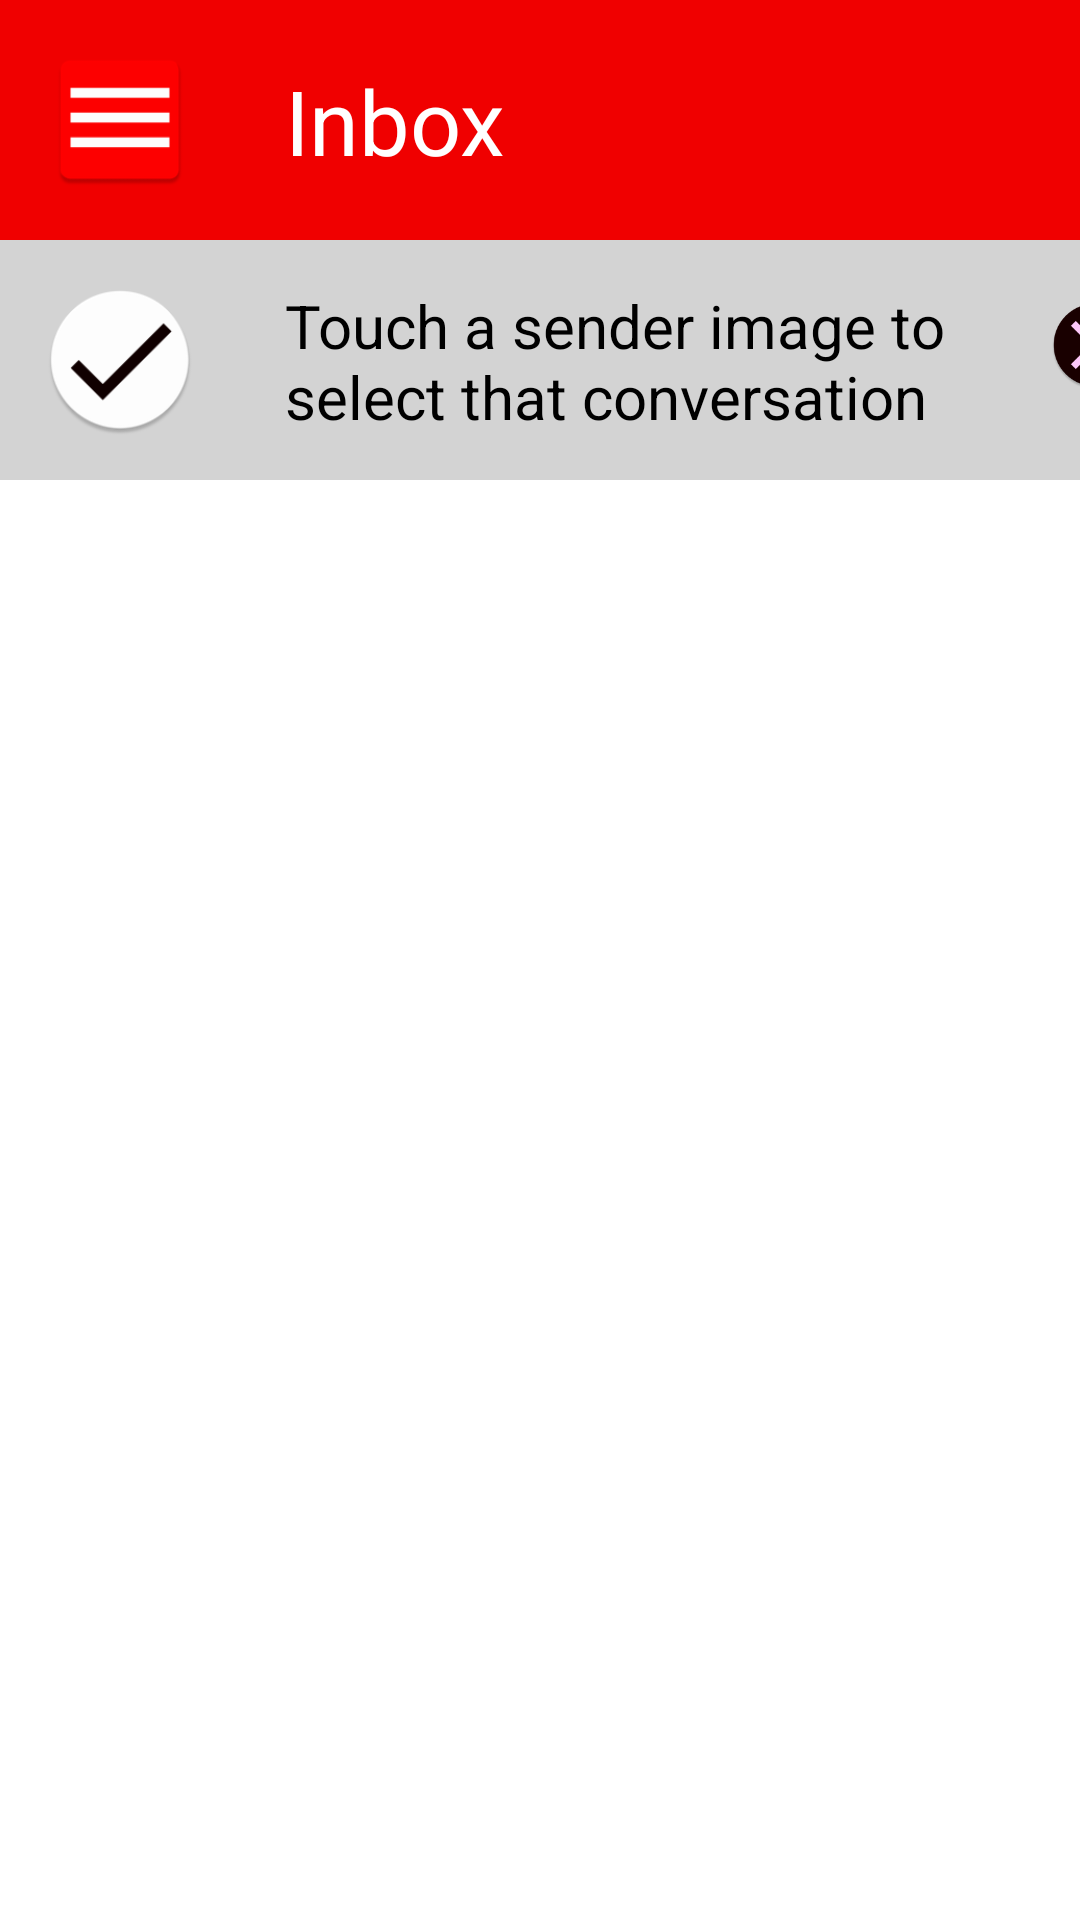

Icon bounding boxes for this 1080×1920 phone screenshot, format box(x1, y1, x2, y2):
dehaze: box(59, 61, 181, 184)
done: box(51, 291, 188, 432)
